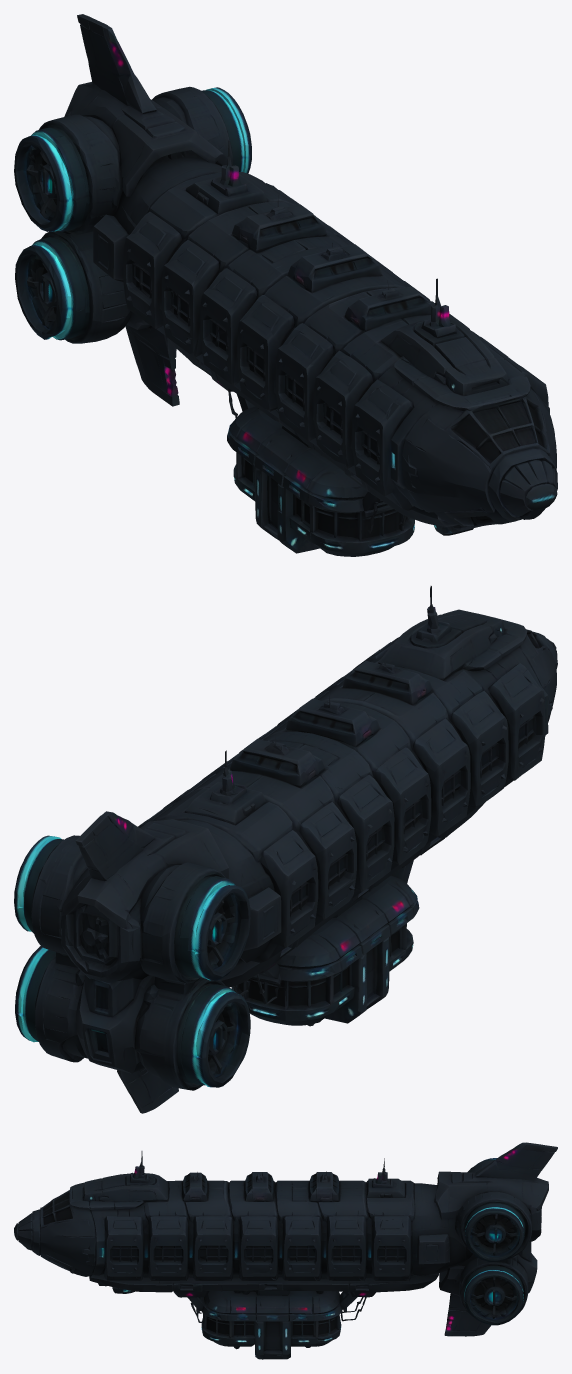
Rendered from source.glb.
3 views of the same model, one above another, from view 1: azimuth 30°, elevation 25°; view 2: azimuth 150°, elevation 25°; view 3: azimuth 270°, elevation 25° (orthographic). The views are drawn at different scales.
Parts seen in each view (by area): view 1: model; view 2: model; view 3: model.
Boxes of the visible parts, x1,y1,x2,y2 form: model: (14, 14, 557, 556); model: (14, 586, 557, 1113); model: (14, 1142, 557, 1359).
Size of the model in its own units: 0.4549 by 0.7902 by 1.9.
Materials: 1 (1 with a texture image).
